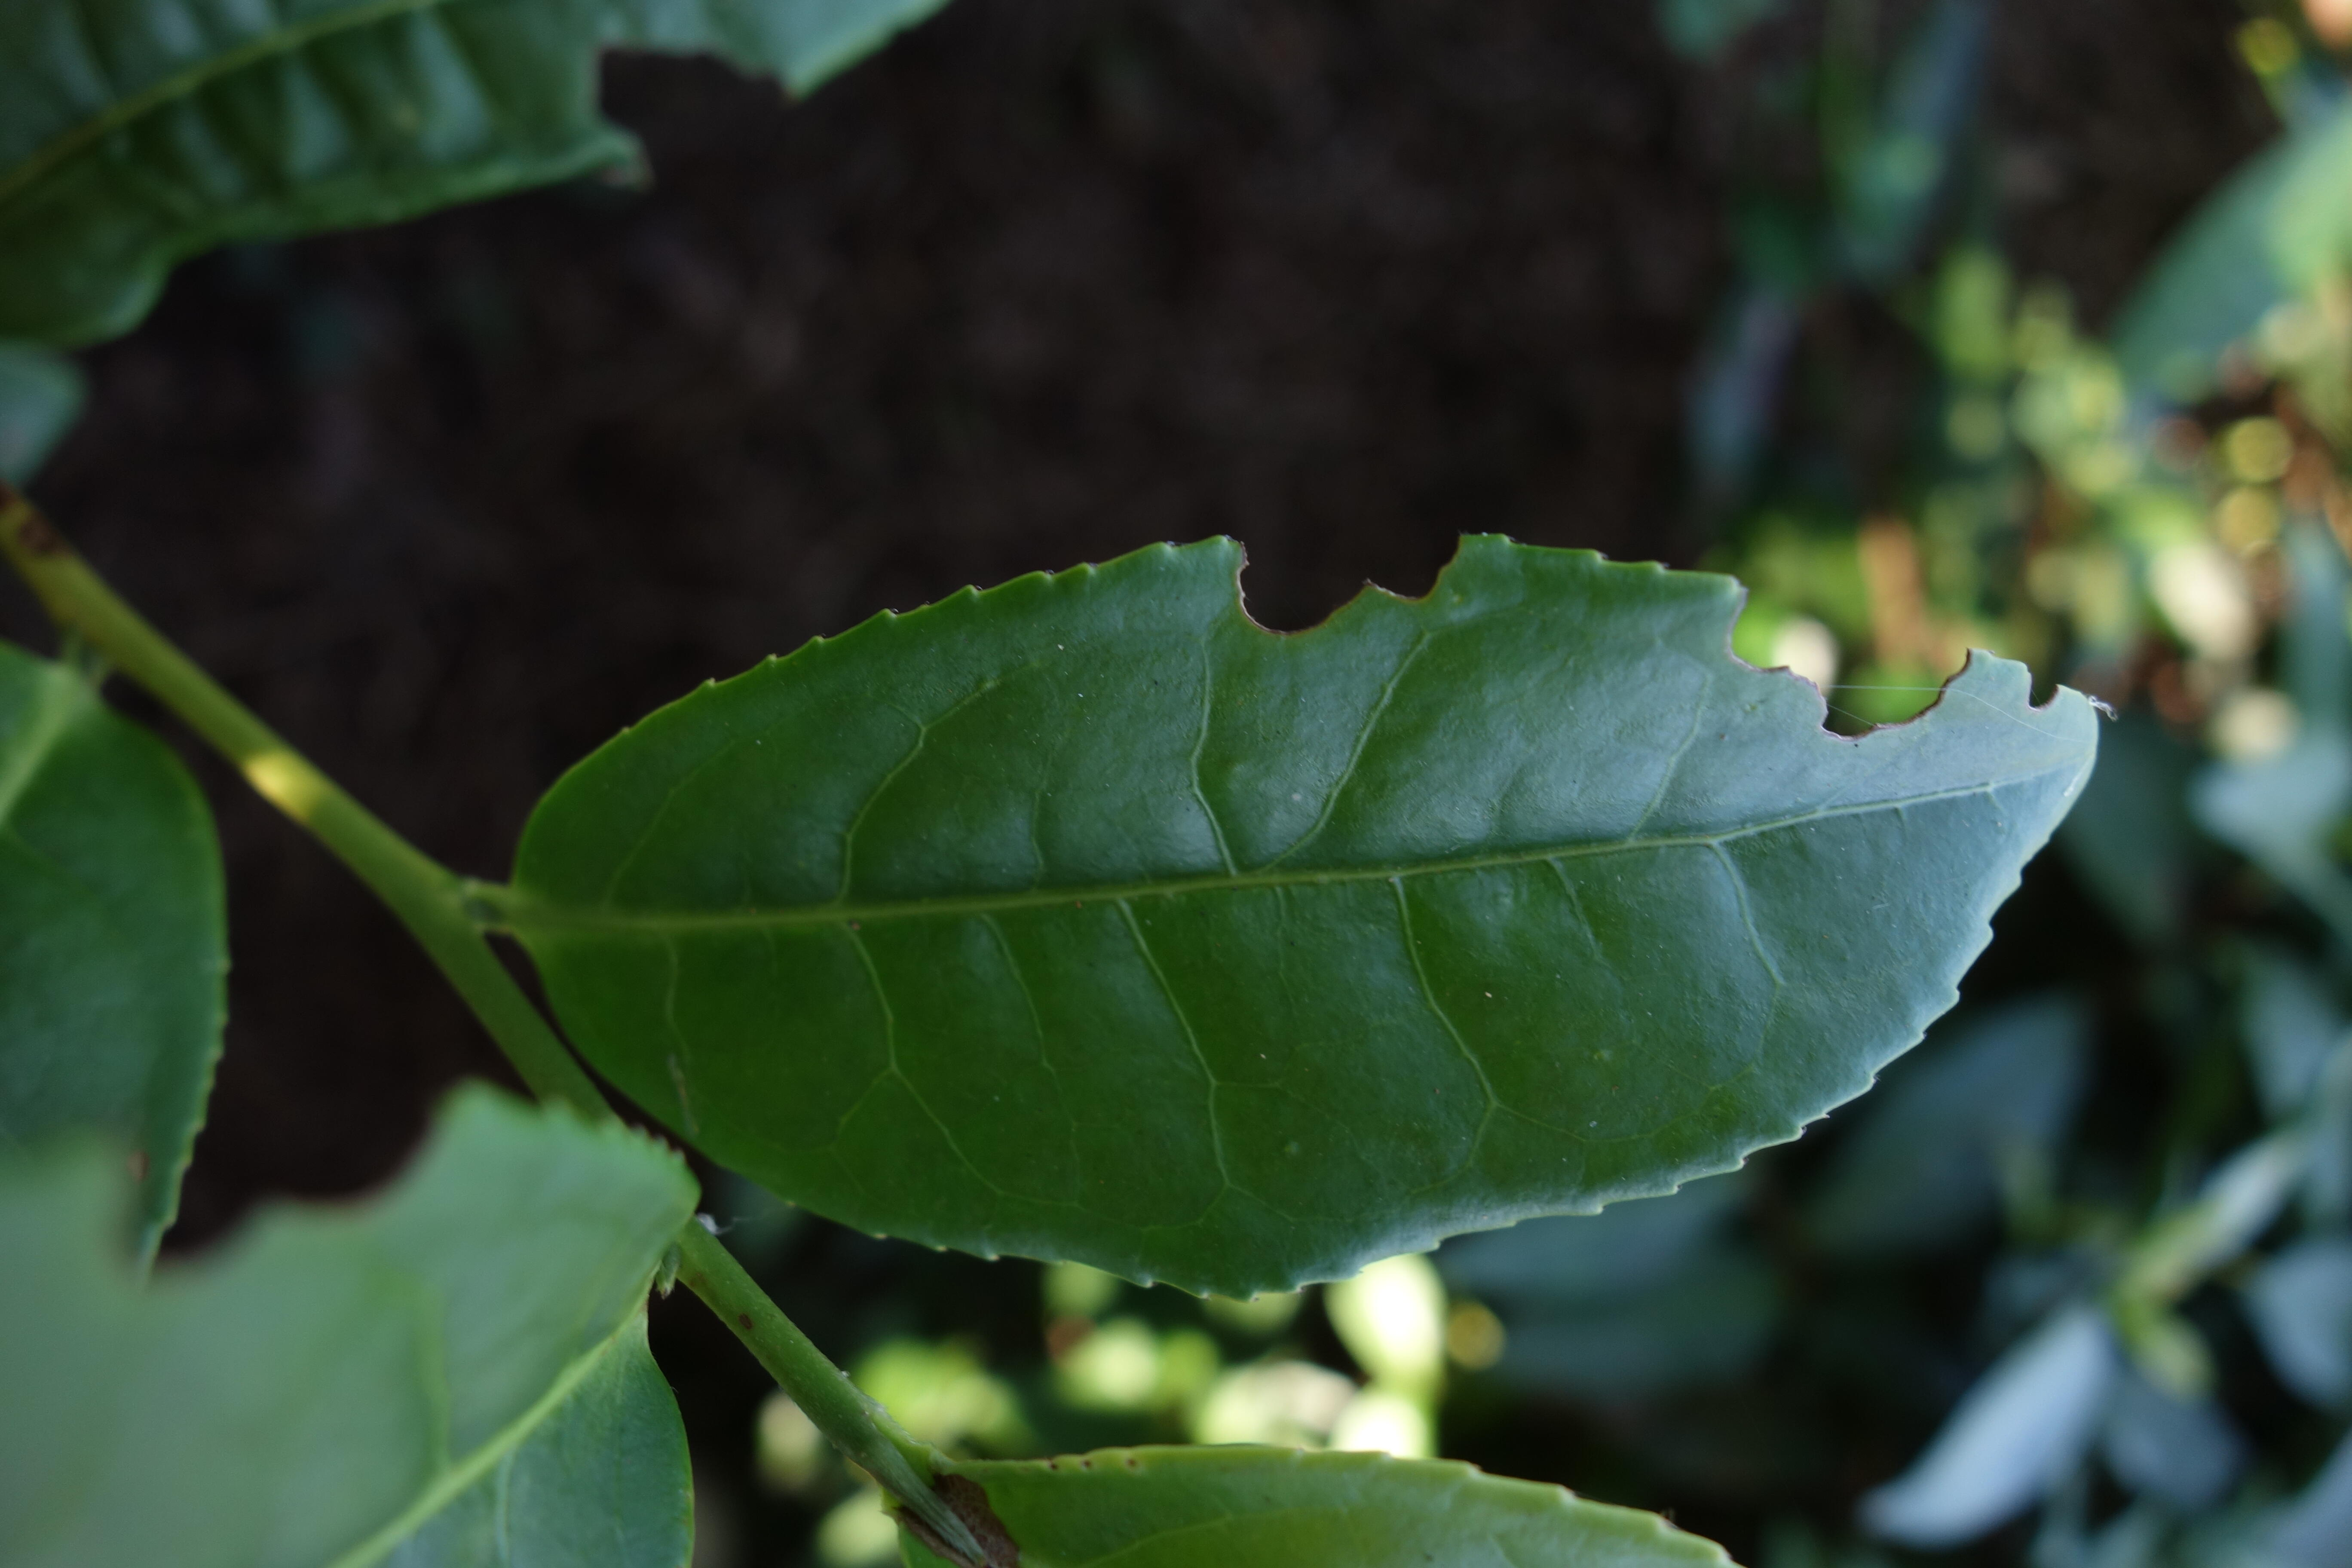chihuo_high: (509, 527, 2107, 1300)
